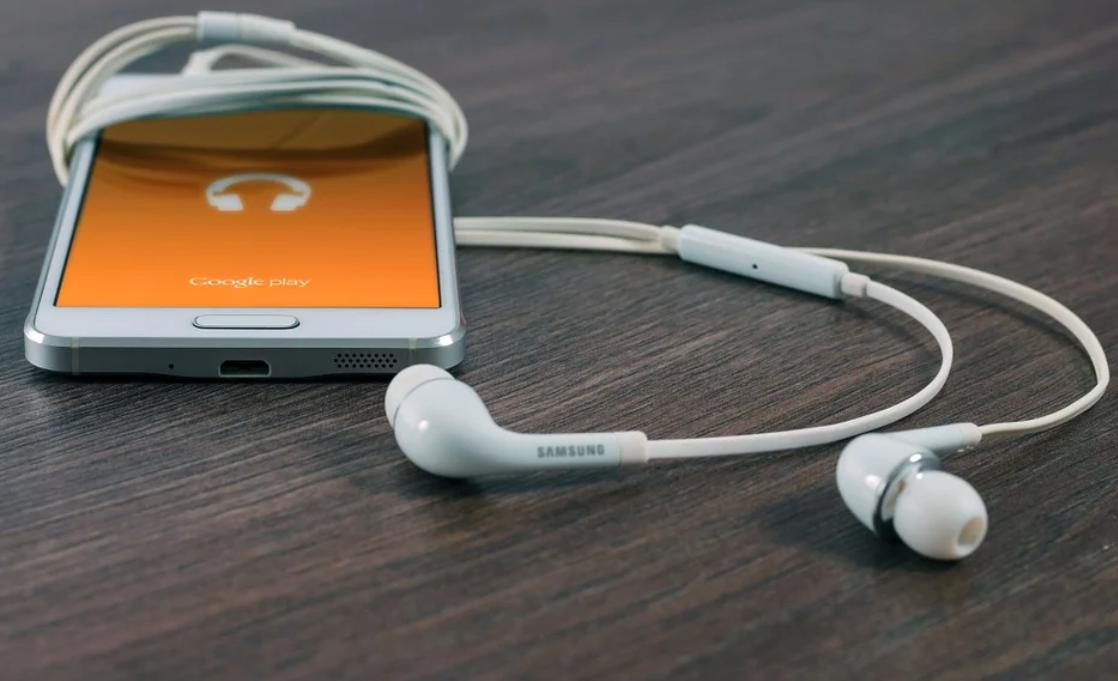mobile: (24, 120, 466, 382)
